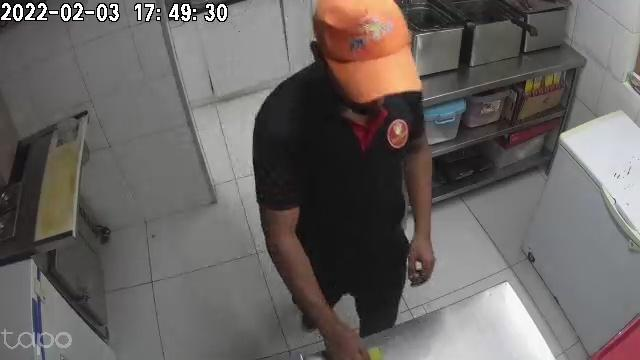no_gloves: (409, 224, 435, 284)
